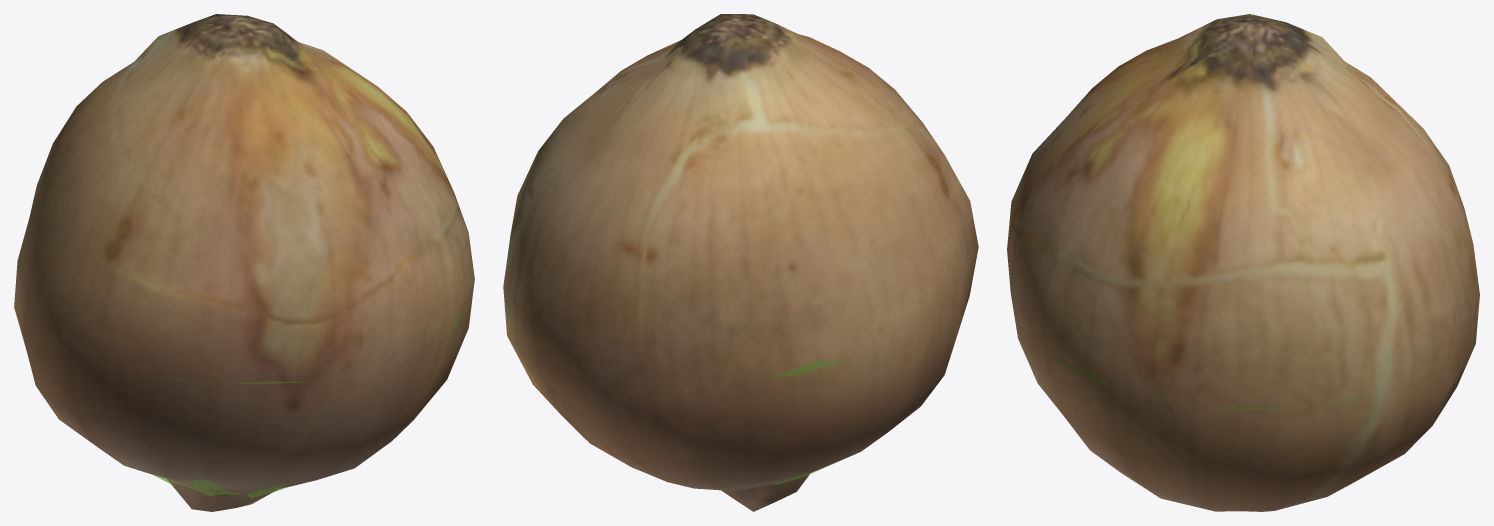
The model's file is pg_Onion_02.fbx.
3 renders of one model, left to right at view 1: azimuth 30°, elevation 25°; view 2: azimuth 150°, elevation 25°; view 3: azimuth 270°, elevation 25°, orthographic. The views are drawn at different scales.
Visible parts, largest first — view 1: pg_Onion_02_a_LOD0, pg_Onion_02_a_col; view 2: pg_Onion_02_a_LOD0, pg_Onion_02_a_col; view 3: pg_Onion_02_a_LOD0, pg_Onion_02_a_col.
Part boxes in pixels (<box>): pg_Onion_02_a_LOD0: <box>14,14,474,511</box>; pg_Onion_02_a_col: <box>140,304,470,498</box>; pg_Onion_02_a_LOD0: <box>503,14,978,511</box>; pg_Onion_02_a_col: <box>661,360,850,484</box>; pg_Onion_02_a_LOD0: <box>1007,14,1479,511</box>; pg_Onion_02_a_col: <box>1050,356,1383,409</box>.
Size of what is drawn, in the model's own units: 7.82 by 8.96 by 7.82.
